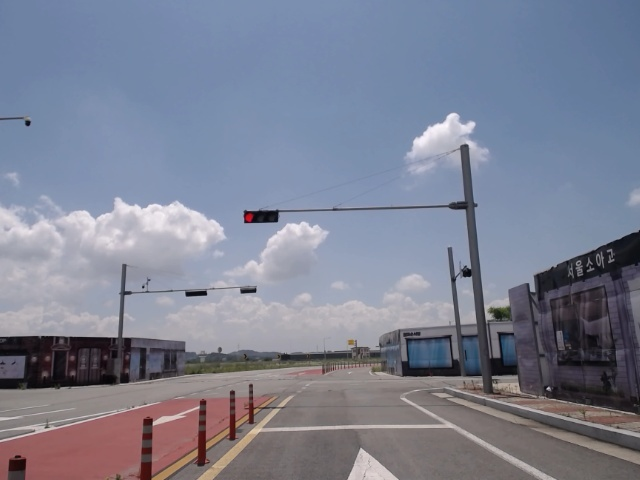red_3: (243, 209, 279, 224)
